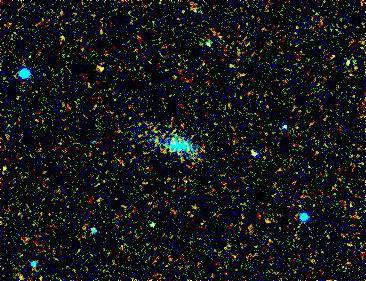star: (89, 50, 119, 80)
